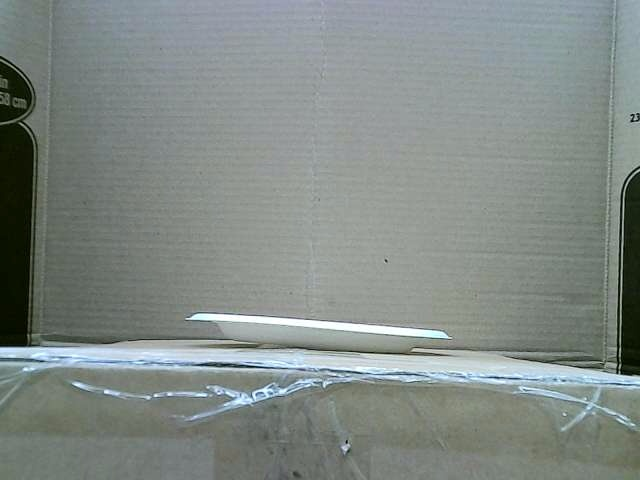Plate: (185, 312, 452, 354)
